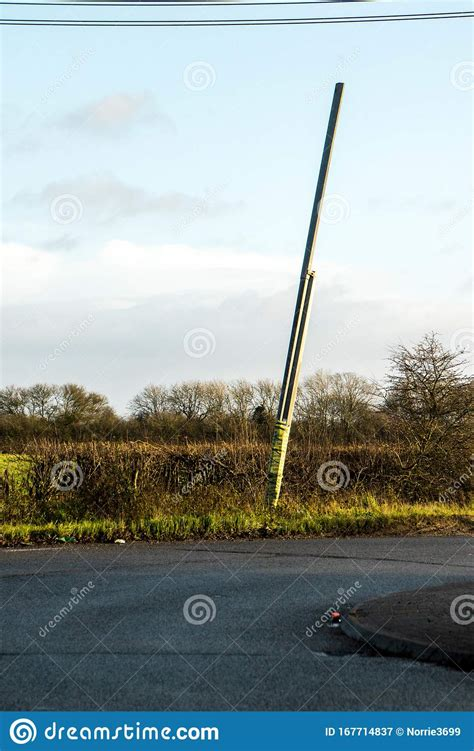pole: (254, 73, 381, 513)
